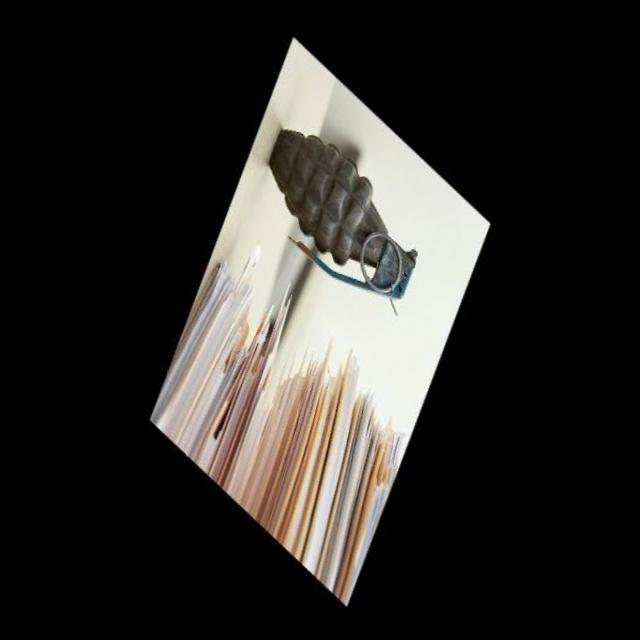grenade: (250, 99, 432, 334)
